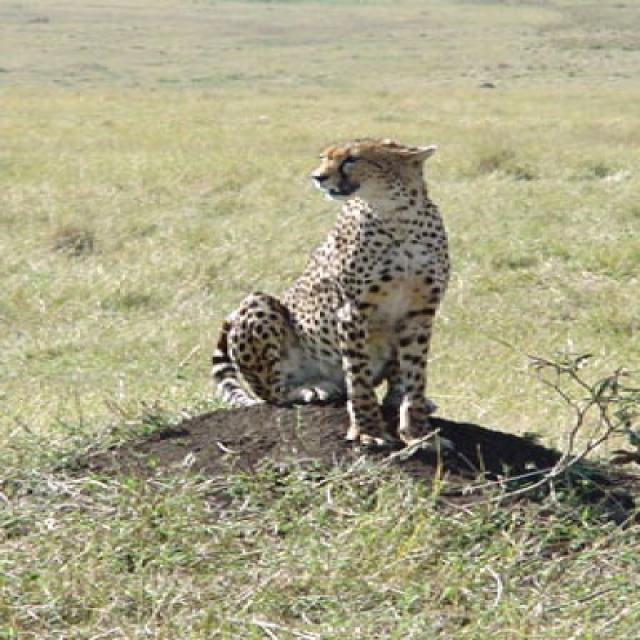Cheetah: (213, 139, 448, 445)
